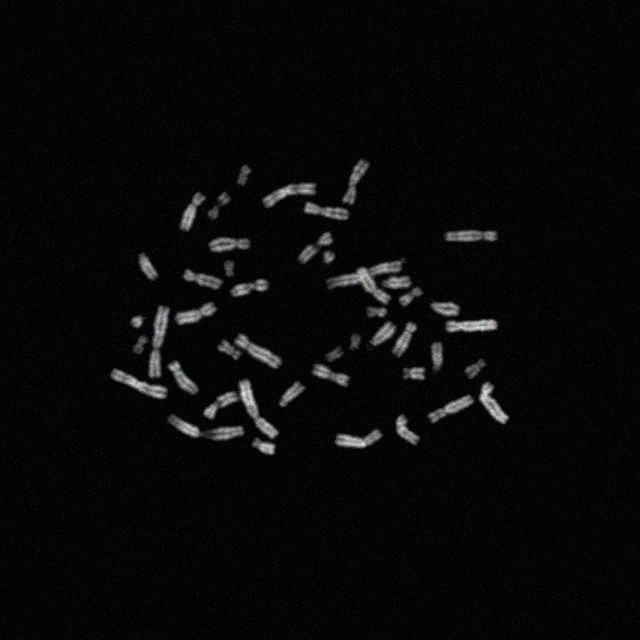chromosome: (240, 378, 278, 438), (167, 412, 246, 440), (326, 260, 404, 288), (111, 370, 167, 400), (261, 180, 315, 210), (238, 334, 282, 370), (149, 305, 169, 377), (342, 160, 370, 206), (478, 384, 509, 424), (429, 395, 473, 423), (359, 268, 389, 306), (170, 361, 200, 397), (178, 192, 204, 232), (174, 300, 216, 324), (313, 362, 351, 388), (205, 392, 238, 420), (335, 429, 381, 448), (184, 268, 223, 290), (448, 228, 498, 244), (444, 318, 500, 332), (231, 276, 269, 296), (304, 203, 348, 220), (394, 322, 416, 356), (206, 192, 232, 220), (396, 414, 420, 444), (370, 324, 398, 348), (136, 251, 158, 281), (209, 237, 249, 253), (280, 383, 304, 409), (464, 360, 490, 380), (400, 286, 422, 308), (216, 342, 242, 360), (429, 300, 458, 316), (430, 343, 444, 373), (384, 275, 412, 289), (326, 346, 344, 366), (404, 366, 424, 384), (253, 439, 275, 455), (132, 334, 146, 358), (237, 166, 253, 186), (366, 305, 388, 319), (298, 245, 316, 262), (224, 258, 236, 280), (348, 333, 362, 351), (314, 234, 334, 246), (130, 313, 144, 329), (323, 252, 337, 266)
